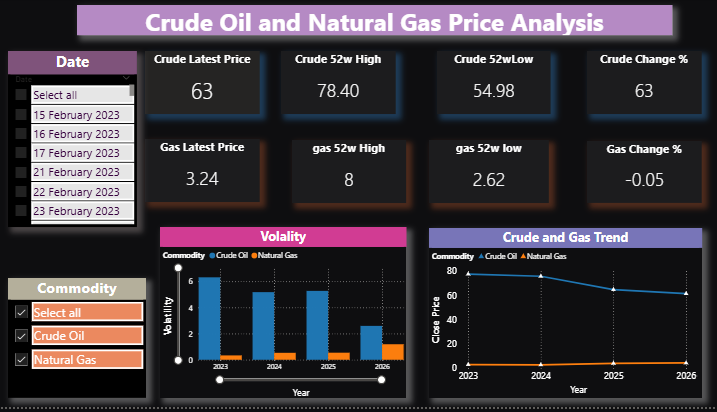

What the dashboard file says about the page in this screenshot:
{"tool":"powerbi","page":{"name":"Page 1","canvas":[1280,720],"ordinal":0},"visuals":[{"type":"card","title":"Crude Latest Price","fields":{"Values":["crude_natural_gas.Crude Latest Price"]},"box":[259,92.5,201.8,111],"z":0},{"type":"card","title":"Crude 52wLow","fields":{"Values":["crude_natural_gas.Crude 52W Low"]},"box":[773.7,92.5,200.2,111],"z":1000},{"type":"card","title":"Crude 52w High","fields":{"Values":["crude_natural_gas.Crude 52W High"]},"box":[497.9,92.5,201.8,111],"z":2000},{"type":"card","title":"gas 52w High","fields":{"Values":["crude_natural_gas.Gas 52W High"]},"box":[517.6,250,200.7,110.9],"z":3000},{"type":"card","title":"gas 52w low","fields":{"Values":["crude_natural_gas.Gas 52W Low"]},"box":[758.8,250,211.3,110.9],"z":4000},{"type":"card","title":"Gas Change %","fields":{"Values":["crude_natural_gas.Gas Change %"]},"box":[1037,251.8,202.5,109.2],"z":5000},{"type":"card","title":"Crude Change %","fields":{"Values":["crude_natural_gas.Crude Latest Price"]},"box":[1037.8,92.5,201.8,111],"z":6000},{"type":"card","title":"Gas Latest Price","fields":{"Values":["crude_natural_gas.Gas Latest Price"]},"box":[259,248.9,201.8,111],"z":7000},{"type":"lineChart","title":"Crude and Gas Trend","fields":{"Category":["crude_natural_gas.Year"],"Series":["crude_natural_gas.Commodity"],"Y":["crude_natural_gas.Close Price"]},"box":[758.8,405,480.7,299.3],"z":8000},{"type":"textbox","title":"Crude Oil and Natural Gas Price Analysis","box":[139.1,12.3,1047.6,52.8],"z":9000},{"type":"clusteredColumnChart","title":"Volality","fields":{"Y":["crude_natural_gas.Volatility"],"Series":["crude_natural_gas.Commodity"],"Category":["crude_natural_gas.Year"]},"box":[285.9,403.7,434,301.1],"z":10000},{"type":"slicer","title":"Commodity","fields":{"Values":["crude_natural_gas.Commodity"]},"box":[17.6,493,243,211.3],"z":11000},{"type":"slicer","title":"Date","fields":{"Values":["crude_natural_gas.Date"]},"box":[17.6,93.3,227.1,309.9],"z":12000}]}

Visuals, with their boxes in screenshot pixels (x1, y1, x2, y2), scaled from the page's 1280x720 canvas onto the 717x412 screenshot:
"Crude Latest Price" card: select_region(145, 53, 258, 116)
"Crude 52wLow" card: select_region(433, 53, 546, 116)
"Crude 52w High" card: select_region(279, 53, 392, 116)
"gas 52w High" card: select_region(290, 143, 402, 207)
"gas 52w low" card: select_region(425, 143, 543, 207)
"Gas Change %" card: select_region(581, 144, 694, 207)
"Crude Change %" card: select_region(581, 53, 694, 116)
"Gas Latest Price" card: select_region(145, 142, 258, 206)
"Crude and Gas Trend" lineChart: select_region(425, 232, 694, 403)
"Crude Oil and Natural Gas Price Analysis" textbox: select_region(78, 7, 665, 37)
"Volality" clusteredColumnChart: select_region(160, 231, 403, 403)
"Commodity" slicer: select_region(10, 282, 146, 403)
"Date" slicer: select_region(10, 53, 137, 231)
